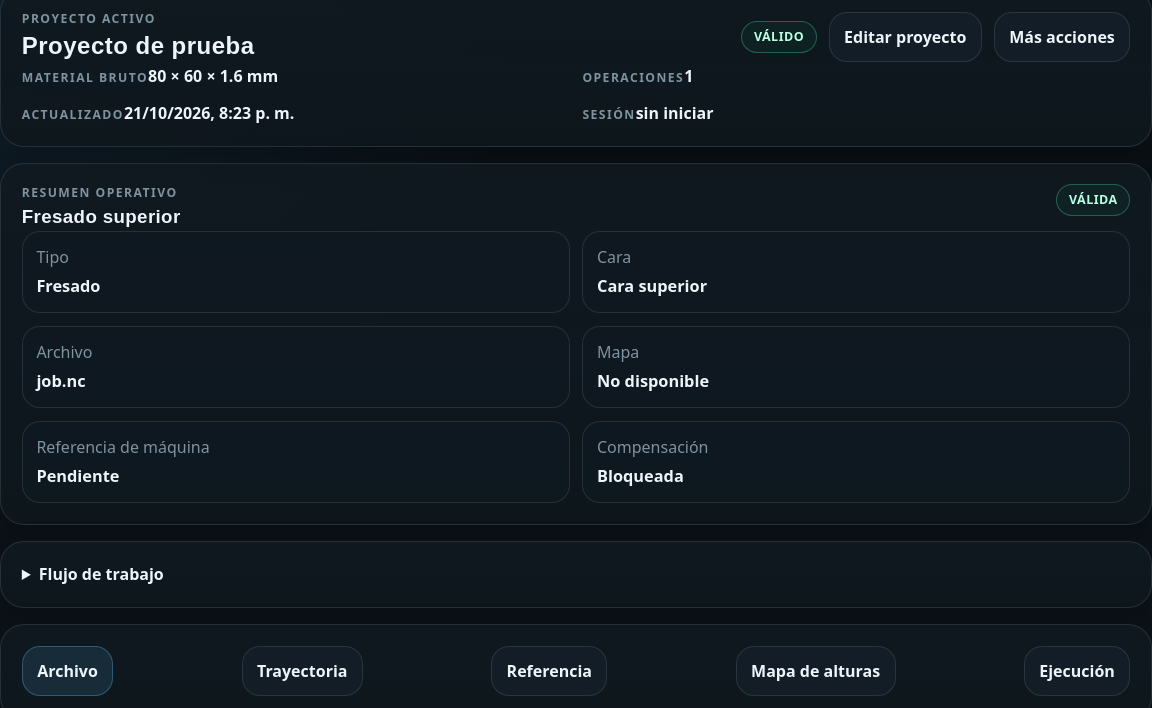
it: ProjectWorkspace › bloquea ejecución cuando la configuración guardada y el runtime son inconsistentes
Click the button "Ejecución" at (1077, 671), box [1024,646,1130,696]
(page scrolled)
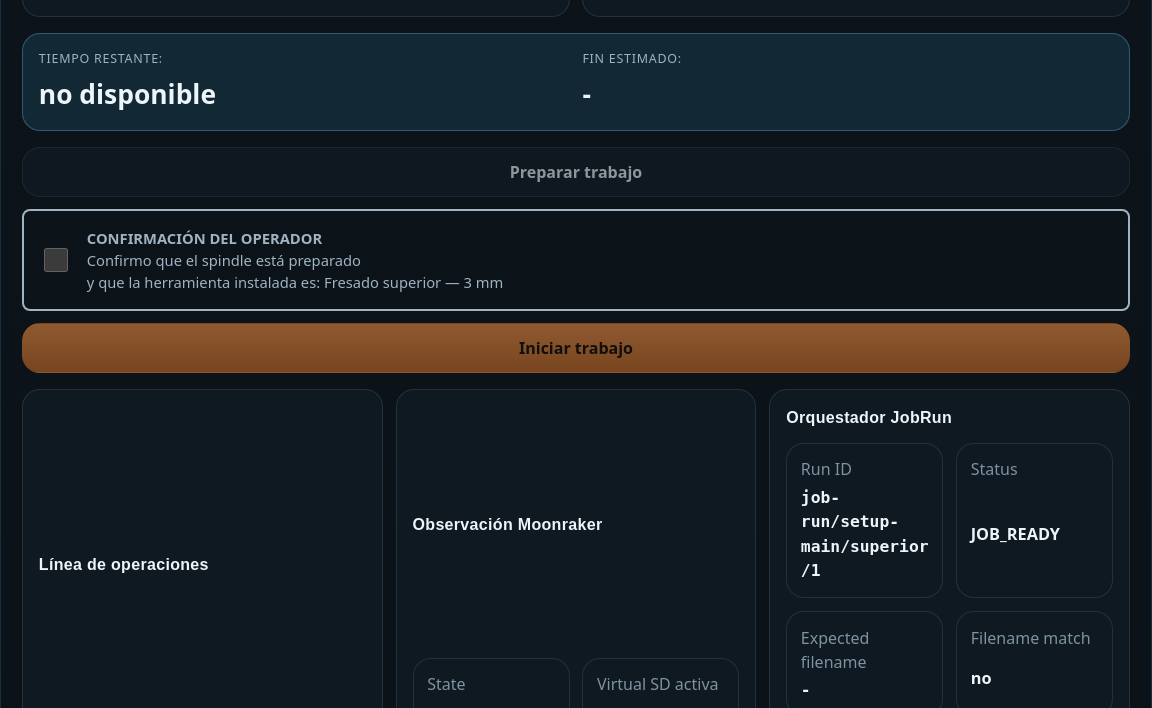
Expected: the button "Preparar trabajo" is disabled, [22,147,1130,197]
Expected: the button "Iniciar trabajo" is disabled, [22,323,1130,373]
